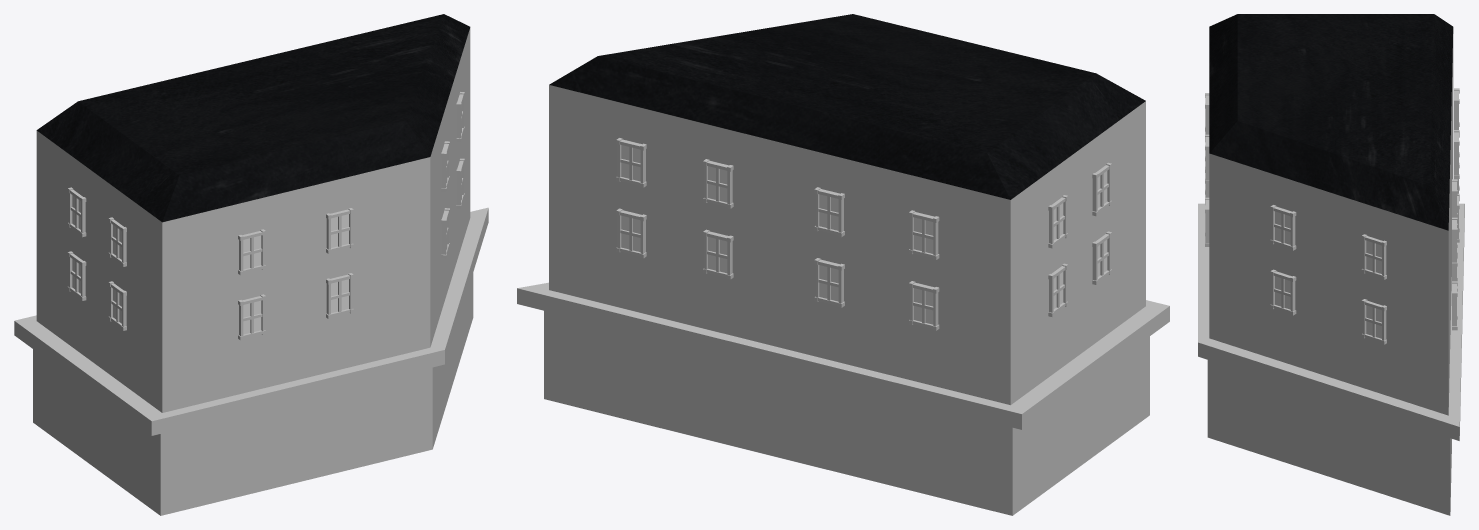
Rendered from HouseAngled2_Textured.fbx.
The picture shows the model from 3 angles, left to right: view 1: azimuth 30°, elevation 25°; view 2: azimuth 150°, elevation 25°; view 3: azimuth 270°, elevation 25°; orthographic projection. The views are drawn at different scales.
Parts seen in each view (by area): view 1: Plane.001, WindowLShortSide.039, WindowLShortSide.040, WindowLShortSide.041, WindowLShortSide.042, WindowLShortSide.044, WindowLShortSide.045, WindowLShortSide.046, WindowLShortSide.043; view 2: Plane.001, WindowLShortSide.050, WindowLShortSide.051, WindowLShortSide.052, WindowLShortSide.054, WindowLShortSide.049, WindowLShortSide.053, WindowLShortSide.047, WindowLShortSide.048, WindowLShortSide.046, WindowLShortSide.043, WindowLShortSide.045 (+1 smaller); view 3: Plane.001, WindowLShortSide.056, WindowLShortSide.058, WindowLShortSide.057, WindowLShortSide.055.
Boxes of the visible parts, x1,y1,x2,y2 form: Plane.001: (14, 14, 488, 515); WindowLShortSide.039: (326, 208, 353, 253); WindowLShortSide.040: (326, 273, 353, 318); WindowLShortSide.041: (238, 229, 265, 275); WindowLShortSide.042: (238, 294, 265, 340); WindowLShortSide.044: (67, 251, 86, 300); WindowLShortSide.045: (67, 187, 86, 237); WindowLShortSide.046: (108, 281, 126, 330); WindowLShortSide.043: (108, 217, 126, 266); Plane.001: (517, 14, 1169, 515); WindowLShortSide.050: (703, 229, 733, 279); WindowLShortSide.051: (814, 187, 844, 236); WindowLShortSide.052: (814, 258, 844, 307); WindowLShortSide.054: (616, 208, 646, 258); WindowLShortSide.049: (909, 210, 939, 259); WindowLShortSide.053: (616, 138, 646, 187); WindowLShortSide.047: (703, 159, 733, 208); WindowLShortSide.048: (909, 281, 939, 330); WindowLShortSide.046: (1092, 231, 1111, 284); WindowLShortSide.043: (1092, 162, 1111, 216); WindowLShortSide.045: (1048, 195, 1068, 248); Plane.001: (1198, 14, 1464, 515); WindowLShortSide.056: (1270, 205, 1296, 250); WindowLShortSide.058: (1270, 269, 1296, 315); WindowLShortSide.057: (1361, 299, 1386, 344); WindowLShortSide.055: (1361, 234, 1386, 279).
Bounding box in the file's own units: 5631 × 3659 × 2843.
